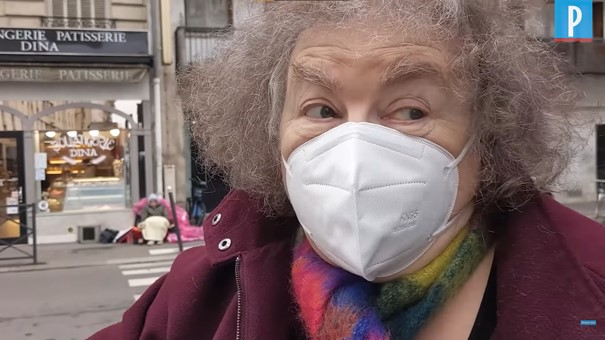with_mask: (283, 52, 505, 266)
